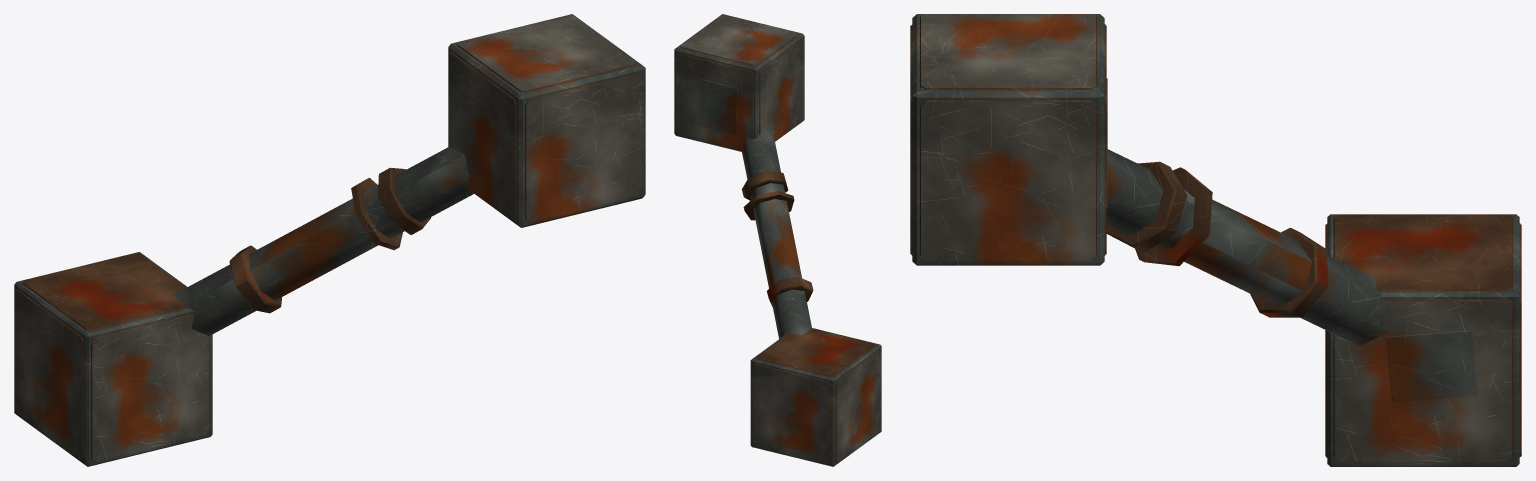
The model's file is R4C_STRUT_DIAG_3D.glb.
3 renders of one model, left to right at view 1: azimuth 30°, elevation 25°; view 2: azimuth 150°, elevation 25°; view 3: azimuth 270°, elevation 25°, orthographic. The views are drawn at different scales.
Parts seen in each view (by area): view 1: R4C_STRUT_DIAG_3D; view 2: R4C_STRUT_DIAG_3D; view 3: R4C_STRUT_DIAG_3D.
Part boxes in pixels (bbox=[...]): R4C_STRUT_DIAG_3D: bbox=[14, 14, 645, 466]; R4C_STRUT_DIAG_3D: bbox=[674, 14, 881, 466]; R4C_STRUT_DIAG_3D: bbox=[910, 14, 1521, 466].
Size of the model in its own units: 1.62 by 1.62 by 1.62.
4 materials, 4 textured.
